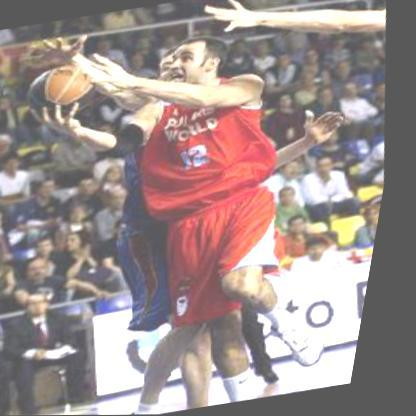basketball: (25, 60, 101, 118)
